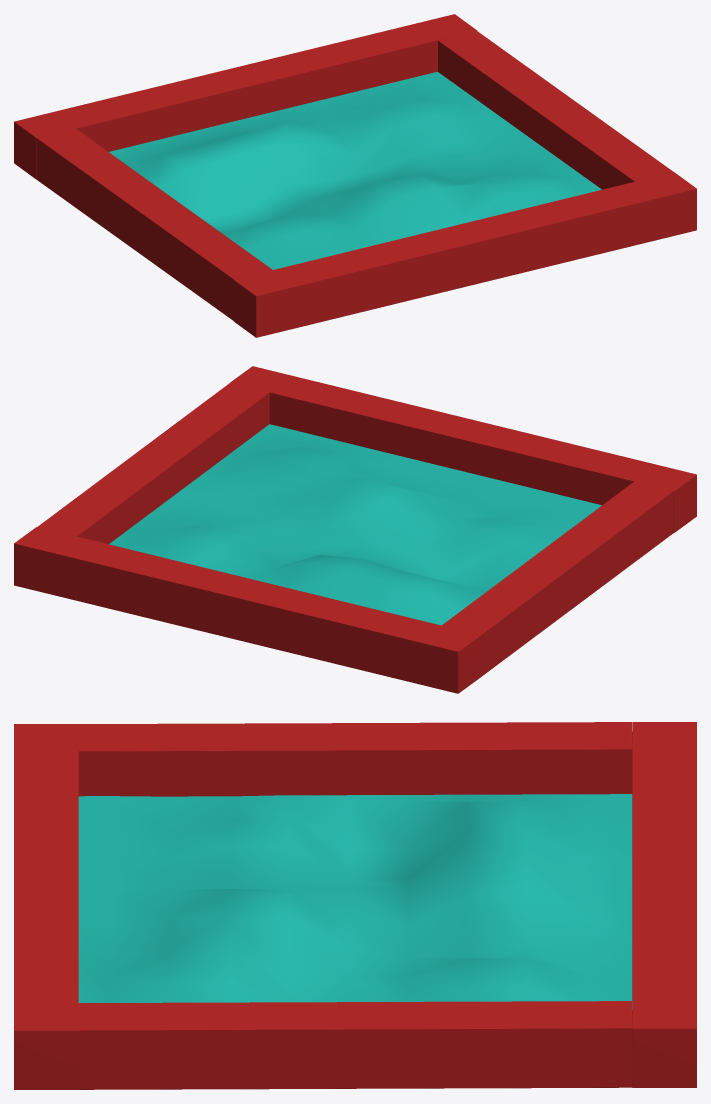
Rendered from Set.fbx.
3 views of the same model, one above another, from view 1: azimuth 30°, elevation 25°; view 2: azimuth 150°, elevation 25°; view 3: azimuth 270°, elevation 25° (orthographic). The views are drawn at different scales.
Parts seen in each view (by area): view 1: Set1; view 2: Set1; view 3: Set1.
Part boxes in pixels (x1,y1,x2,y2): Set1: [14, 14, 696, 337]; Set1: [14, 366, 696, 693]; Set1: [14, 722, 696, 1089].
Size of the model in its own units: 6.71 by 0.6484 by 6.28.
